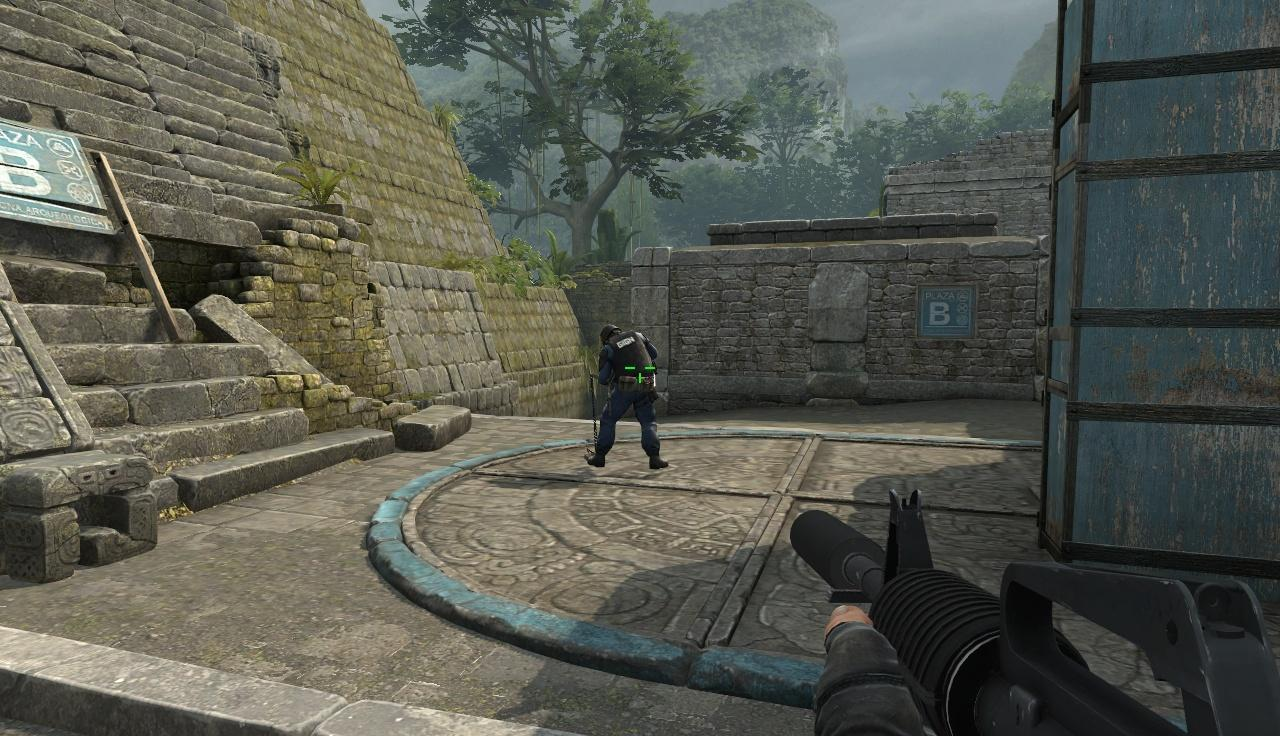ct: (594, 324, 657, 472)
cthead: (604, 324, 624, 344)
rifle: (796, 493, 1280, 736)
